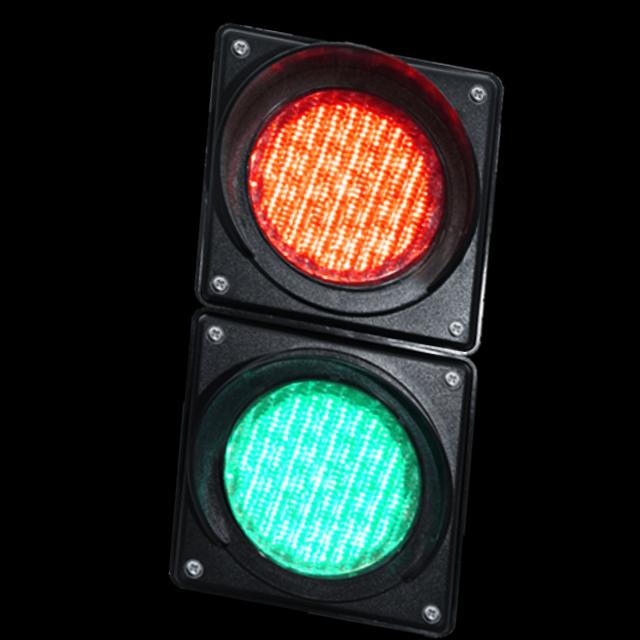green_light: (101, 263, 535, 631)
red_light: (163, 28, 553, 344)
